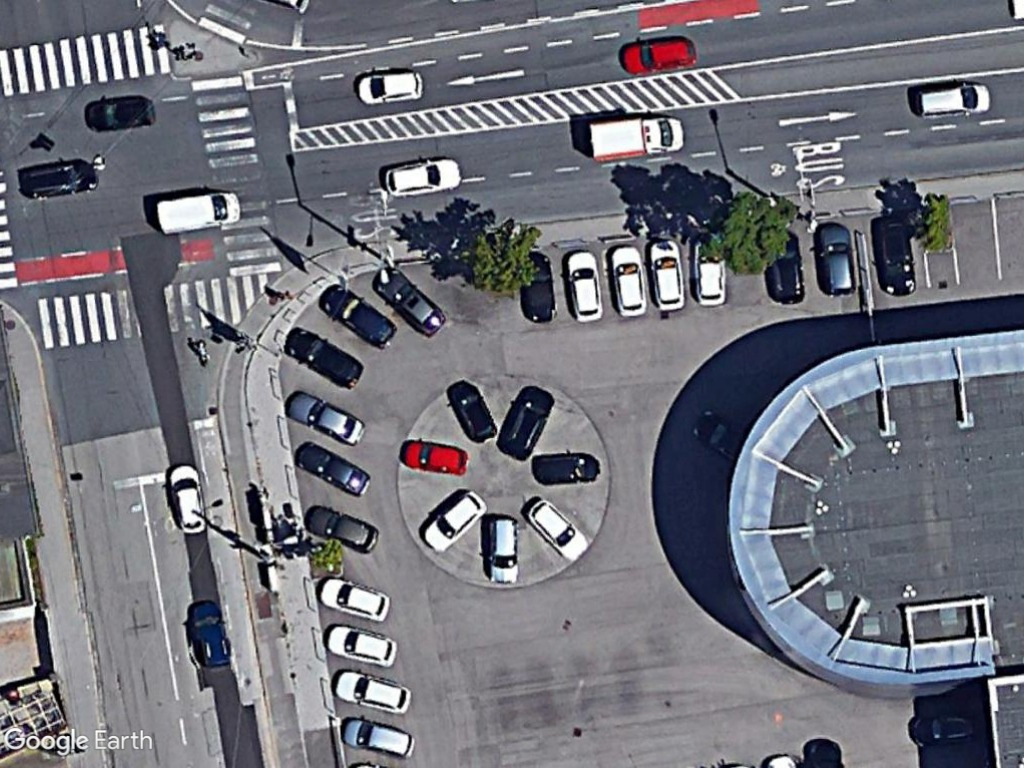car: (372, 266, 448, 341), (279, 386, 372, 447), (284, 437, 375, 499), (316, 284, 400, 350), (281, 326, 364, 391), (519, 494, 593, 566), (416, 482, 488, 554), (298, 502, 384, 557), (329, 666, 417, 717), (313, 572, 394, 625), (319, 621, 403, 672), (810, 217, 860, 301), (906, 78, 996, 124), (601, 239, 651, 321), (336, 715, 420, 763), (446, 376, 500, 450), (163, 459, 212, 540), (184, 597, 234, 675), (380, 153, 464, 199), (525, 444, 600, 495), (480, 510, 525, 594), (395, 434, 472, 482), (561, 246, 607, 326), (617, 33, 699, 76), (645, 234, 688, 315), (353, 63, 426, 108)
truck: (581, 108, 688, 166)
van: (150, 185, 246, 237)
